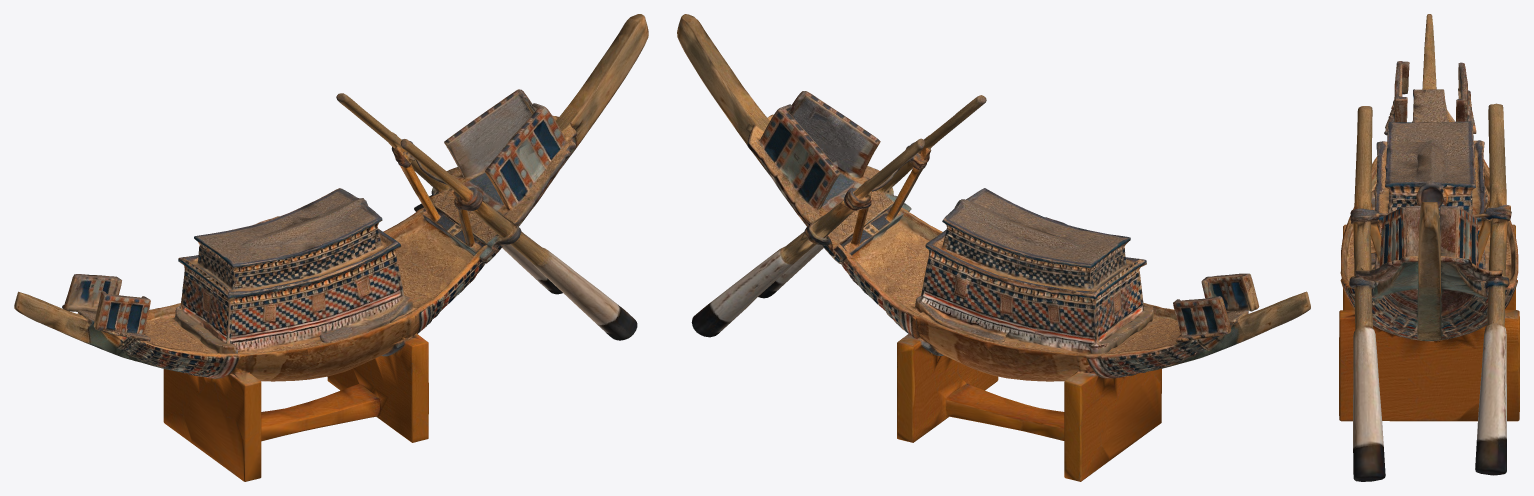
File: model-boat-2-ai.glb
3 renders of one model, left to right at view 1: azimuth 30°, elevation 25°; view 2: azimuth 150°, elevation 25°; view 3: azimuth 270°, elevation 25°, orthographic. The views are drawn at different scales.
Size of the model in its own units: 1.9 by 0.9519 by 0.4448.
1 material, 1 textured.
